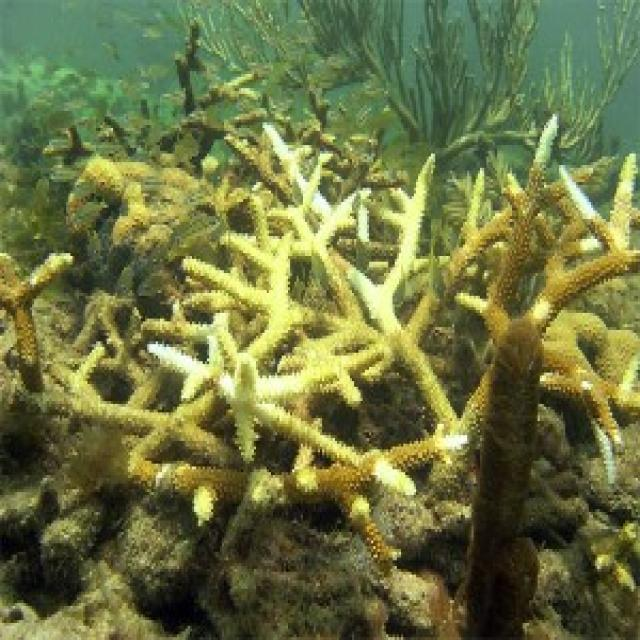Bleached: (146, 237, 383, 465), (357, 155, 434, 342), (263, 123, 357, 248), (560, 166, 605, 243), (526, 115, 558, 189)
